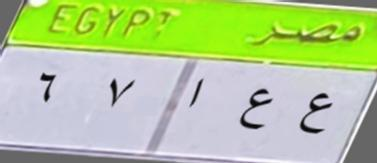6: (33, 70, 61, 108)
7: (106, 72, 137, 122)
ain: (296, 86, 337, 143), (235, 82, 275, 137)
alif: (184, 72, 208, 119)
